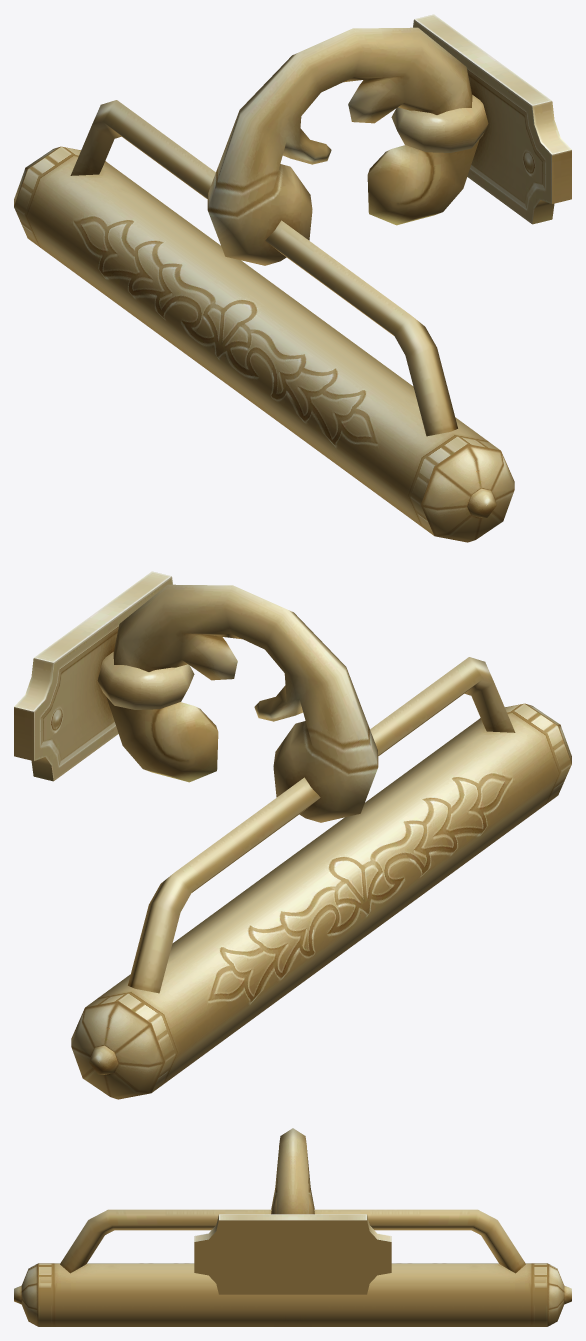
The model's file is my_teaparty_01_lamp_01.glb.
The picture shows the model from 3 angles, top to bottom: view 1: azimuth 30°, elevation 25°; view 2: azimuth 150°, elevation 25°; view 3: azimuth 270°, elevation 25°; orthographic projection. The views are drawn at different scales.
Visible parts, largest first — view 1: my_teaparty_01_lamp_01; view 2: my_teaparty_01_lamp_01; view 3: my_teaparty_01_lamp_01.
Boxes of the visible parts, box(x1,y1,x2,y2) form: my_teaparty_01_lamp_01: box(14, 14, 571, 542); my_teaparty_01_lamp_01: box(14, 571, 571, 1099); my_teaparty_01_lamp_01: box(14, 1128, 571, 1326).
Bounding box in the file's own units: 0.00385 × 0.00442 × 0.0104.
1 material, 1 textured.
